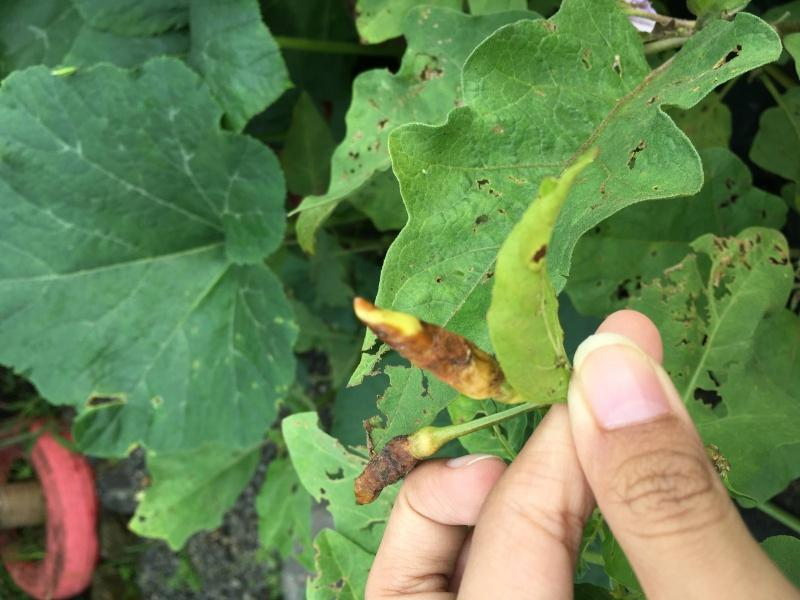antraknosa: (353, 294, 504, 402), (354, 435, 422, 508)
